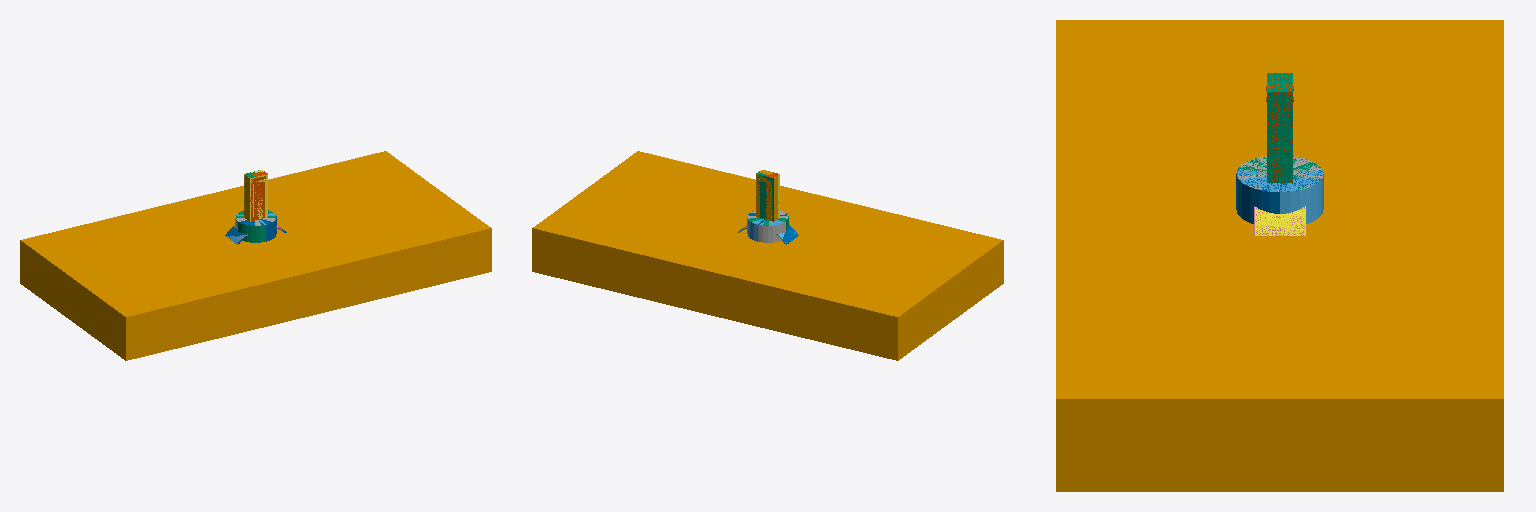
The robot description file, URDF, robot "m4_morphobot":
<?xml version="1.0" encoding="utf-8"?>
<robot name="m4_morphobot">
  <link name="base">
    <inertial>
      <origin xyz="0.000000 0.000000 0.000000" rpy="0 0 0"/>
      <mass value="2.416522"/>
      <inertia ixx="2.595748e-2" iyy="9.996347e-2" izz="1.233433e-1" ixy="0" ixz="0" iyz="0"/>
    </inertial>
    <visual>
      <origin xyz="0 0 0" rpy="0 0 0"/>
      <geometry>
        <mesh filename="package://m4_morphobot/meshes/catalog_chassis_quadruped_body__height-80__hip_spacing_x-500__hip_spacing_y-300__length-700__width-350.stl"/>
      </geometry>
    </visual>
    <collision>
      <origin xyz="0 0 0" rpy="0 0 0"/>
      <geometry>
        <mesh filename="package://m4_morphobot/meshes/catalog_chassis_quadruped_body__height-80__hip_spacing_x-500__hip_spacing_y-300__length-700__width-350.stl"/>
      </geometry>
    </collision>
  </link>
  <link name="FL_roll_housing">
    <inertial>
      <origin xyz="0.000000 0.000000 0.000000" rpy="0 0 0"/>
      <mass value="0.080000"/>
      <inertia ixx="3.333333e-5" iyy="3.333333e-5" izz="3.333333e-5" ixy="0" ixz="0" iyz="0"/>
    </inertial>
    <visual>
      <origin xyz="0 0 0" rpy="0 0 0"/>
      <geometry>
        <mesh filename="package://m4_morphobot/meshes/catalog_joints_joint_t2__gearbox-planetary-9-1__motor-t-motor-r60-kv115.stl"/>
      </geometry>
    </visual>
    <collision>
      <origin xyz="0 0 0" rpy="0 0 0"/>
      <geometry>
        <mesh filename="package://m4_morphobot/meshes/catalog_joints_joint_t2__gearbox-planetary-9-1__motor-t-motor-r60-kv115.stl"/>
      </geometry>
    </collision>
  </link>
  <link name="FL_leg">
    <inertial>
      <origin xyz="0.000000 0.000000 0.000000" rpy="0 0 0"/>
      <mass value="0.150000"/>
      <inertia ixx="5.200000e-4" iyy="5.200000e-4" izz="4.000000e-5" ixy="0" ixz="0" iyz="0"/>
    </inertial>
    <visual>
      <origin xyz="0 0 0" rpy="0 0 0"/>
      <geometry>
        <mesh filename="package://m4_morphobot/meshes/catalog_brackets_leg_segment__length-150.stl"/>
      </geometry>
    </visual>
    <collision>
      <origin xyz="0 0 0" rpy="0 0 0"/>
      <geometry>
        <mesh filename="package://m4_morphobot/meshes/catalog_brackets_leg_segment__length-150.stl"/>
      </geometry>
    </collision>
  </link>
  <link name="FL_rotor">
    <inertial>
      <origin xyz="0.000000 0.000000 0.000000" rpy="0 0 0"/>
      <mass value="0.064238"/>
      <inertia ixx="1.001624e-4" iyy="1.955740e-4" izz="1.001624e-4" ixy="0" ixz="0" iyz="0"/>
    </inertial>
    <visual>
      <origin xyz="0 0 0" rpy="0 0 0"/>
      <geometry>
        <mesh filename="package://m4_morphobot/meshes/catalog_wheels_rotor_wheel__hub_radius-8__hub_thickness-10__prop_blade_length-55__shroud_height-40__shroud_radius-62.5.stl"/>
      </geometry>
    </visual>
    <collision>
      <origin xyz="0 0 0" rpy="0 0 0"/>
      <geometry>
        <mesh filename="package://m4_morphobot/meshes/catalog_wheels_rotor_wheel__hub_radius-8__hub_thickness-10__prop_blade_length-55__shroud_height-40__shroud_radius-62.5.stl"/>
      </geometry>
    </collision>
  </link>
  <link name="FR_roll_housing">
    <inertial>
      <origin xyz="0.000000 0.000000 0.000000" rpy="0 0 0"/>
      <mass value="0.080000"/>
      <inertia ixx="3.333333e-5" iyy="3.333333e-5" izz="3.333333e-5" ixy="0" ixz="0" iyz="0"/>
    </inertial>
    <visual>
      <origin xyz="0 0 0" rpy="0 0 0"/>
      <geometry>
        <mesh filename="package://m4_morphobot/meshes/catalog_joints_joint_t2__gearbox-planetary-9-1__motor-t-motor-r60-kv115.stl"/>
      </geometry>
    </visual>
    <collision>
      <origin xyz="0 0 0" rpy="0 0 0"/>
      <geometry>
        <mesh filename="package://m4_morphobot/meshes/catalog_joints_joint_t2__gearbox-planetary-9-1__motor-t-motor-r60-kv115.stl"/>
      </geometry>
    </collision>
  </link>
  <link name="FR_leg">
    <inertial>
      <origin xyz="0.000000 0.000000 0.000000" rpy="0 0 0"/>
      <mass value="0.150000"/>
      <inertia ixx="5.200000e-4" iyy="5.200000e-4" izz="4.000000e-5" ixy="0" ixz="0" iyz="0"/>
    </inertial>
    <visual>
      <origin xyz="0 0 0" rpy="0 0 0"/>
      <geometry>
        <mesh filename="package://m4_morphobot/meshes/catalog_brackets_leg_segment__length-150.stl"/>
      </geometry>
    </visual>
    <collision>
      <origin xyz="0 0 0" rpy="0 0 0"/>
      <geometry>
        <mesh filename="package://m4_morphobot/meshes/catalog_brackets_leg_segment__length-150.stl"/>
      </geometry>
    </collision>
  </link>
  <link name="FR_rotor">
    <inertial>
      <origin xyz="0.000000 0.000000 0.000000" rpy="0 0 0"/>
      <mass value="0.064238"/>
      <inertia ixx="1.001624e-4" iyy="1.955740e-4" izz="1.001624e-4" ixy="0" ixz="0" iyz="0"/>
    </inertial>
    <visual>
      <origin xyz="0 0 0" rpy="0 0 0"/>
      <geometry>
        <mesh filename="package://m4_morphobot/meshes/catalog_wheels_rotor_wheel__hub_radius-8__hub_thickness-10__prop_blade_length-55__shroud_height-40__shroud_radius-62.5.stl"/>
      </geometry>
    </visual>
    <collision>
      <origin xyz="0 0 0" rpy="0 0 0"/>
      <geometry>
        <mesh filename="package://m4_morphobot/meshes/catalog_wheels_rotor_wheel__hub_radius-8__hub_thickness-10__prop_blade_length-55__shroud_height-40__shroud_radius-62.5.stl"/>
      </geometry>
    </collision>
  </link>
  <link name="RL_roll_housing">
    <inertial>
      <origin xyz="0.000000 0.000000 0.000000" rpy="0 0 0"/>
      <mass value="0.080000"/>
      <inertia ixx="3.333333e-5" iyy="3.333333e-5" izz="3.333333e-5" ixy="0" ixz="0" iyz="0"/>
    </inertial>
    <visual>
      <origin xyz="0 0 0" rpy="0 0 0"/>
      <geometry>
        <mesh filename="package://m4_morphobot/meshes/catalog_joints_joint_t2__gearbox-planetary-9-1__motor-t-motor-r60-kv115.stl"/>
      </geometry>
    </visual>
    <collision>
      <origin xyz="0 0 0" rpy="0 0 0"/>
      <geometry>
        <mesh filename="package://m4_morphobot/meshes/catalog_joints_joint_t2__gearbox-planetary-9-1__motor-t-motor-r60-kv115.stl"/>
      </geometry>
    </collision>
  </link>
  <link name="RL_leg">
    <inertial>
      <origin xyz="0.000000 0.000000 0.000000" rpy="0 0 0"/>
      <mass value="0.150000"/>
      <inertia ixx="5.200000e-4" iyy="5.200000e-4" izz="4.000000e-5" ixy="0" ixz="0" iyz="0"/>
    </inertial>
    <visual>
      <origin xyz="0 0 0" rpy="0 0 0"/>
      <geometry>
        <mesh filename="package://m4_morphobot/meshes/catalog_brackets_leg_segment__length-150.stl"/>
      </geometry>
    </visual>
    <collision>
      <origin xyz="0 0 0" rpy="0 0 0"/>
      <geometry>
        <mesh filename="package://m4_morphobot/meshes/catalog_brackets_leg_segment__length-150.stl"/>
      </geometry>
    </collision>
  </link>
  <link name="RL_rotor">
    <inertial>
      <origin xyz="0.000000 0.000000 0.000000" rpy="0 0 0"/>
      <mass value="0.064238"/>
      <inertia ixx="1.001624e-4" iyy="1.955740e-4" izz="1.001624e-4" ixy="0" ixz="0" iyz="0"/>
    </inertial>
    <visual>
      <origin xyz="0 0 0" rpy="0 0 0"/>
      <geometry>
        <mesh filename="package://m4_morphobot/meshes/catalog_wheels_rotor_wheel__hub_radius-8__hub_thickness-10__prop_blade_length-55__shroud_height-40__shroud_radius-62.5.stl"/>
      </geometry>
    </visual>
    <collision>
      <origin xyz="0 0 0" rpy="0 0 0"/>
      <geometry>
        <mesh filename="package://m4_morphobot/meshes/catalog_wheels_rotor_wheel__hub_radius-8__hub_thickness-10__prop_blade_length-55__shroud_height-40__shroud_radius-62.5.stl"/>
      </geometry>
    </collision>
  </link>
  <link name="RR_roll_housing">
    <inertial>
      <origin xyz="0.000000 0.000000 0.000000" rpy="0 0 0"/>
      <mass value="0.080000"/>
      <inertia ixx="3.333333e-5" iyy="3.333333e-5" izz="3.333333e-5" ixy="0" ixz="0" iyz="0"/>
    </inertial>
    <visual>
      <origin xyz="0 0 0" rpy="0 0 0"/>
      <geometry>
        <mesh filename="package://m4_morphobot/meshes/catalog_joints_joint_t2__gearbox-planetary-9-1__motor-t-motor-r60-kv115.stl"/>
      </geometry>
    </visual>
    <collision>
      <origin xyz="0 0 0" rpy="0 0 0"/>
      <geometry>
        <mesh filename="package://m4_morphobot/meshes/catalog_joints_joint_t2__gearbox-planetary-9-1__motor-t-motor-r60-kv115.stl"/>
      </geometry>
    </collision>
  </link>
  <link name="RR_leg">
    <inertial>
      <origin xyz="0.000000 0.000000 0.000000" rpy="0 0 0"/>
      <mass value="0.150000"/>
      <inertia ixx="5.200000e-4" iyy="5.200000e-4" izz="4.000000e-5" ixy="0" ixz="0" iyz="0"/>
    </inertial>
    <visual>
      <origin xyz="0 0 0" rpy="0 0 0"/>
      <geometry>
        <mesh filename="package://m4_morphobot/meshes/catalog_brackets_leg_segment__length-150.stl"/>
      </geometry>
    </visual>
    <collision>
      <origin xyz="0 0 0" rpy="0 0 0"/>
      <geometry>
        <mesh filename="package://m4_morphobot/meshes/catalog_brackets_leg_segment__length-150.stl"/>
      </geometry>
    </collision>
  </link>
  <link name="RR_rotor">
    <inertial>
      <origin xyz="0.000000 0.000000 0.000000" rpy="0 0 0"/>
      <mass value="0.064238"/>
      <inertia ixx="1.001624e-4" iyy="1.955740e-4" izz="1.001624e-4" ixy="0" ixz="0" iyz="0"/>
    </inertial>
    <visual>
      <origin xyz="0 0 0" rpy="0 0 0"/>
      <geometry>
        <mesh filename="package://m4_morphobot/meshes/catalog_wheels_rotor_wheel__hub_radius-8__hub_thickness-10__prop_blade_length-55__shroud_height-40__shroud_radius-62.5.stl"/>
      </geometry>
    </visual>
    <collision>
      <origin xyz="0 0 0" rpy="0 0 0"/>
      <geometry>
        <mesh filename="package://m4_morphobot/meshes/catalog_wheels_rotor_wheel__hub_radius-8__hub_thickness-10__prop_blade_length-55__shroud_height-40__shroud_radius-62.5.stl"/>
      </geometry>
    </collision>
  </link>
  <joint name="FL_HIP_roll" type="revolute">
    <parent link="base"/>
    <child link="FL_roll_housing"/>
    <origin xyz="0.250000 0.150000 -0.040000" rpy="0.000000 0.000000 0.000000"/>
    <axis xyz="1.000000 0.000000 0.000000"/>
    <limit lower="-1.600" upper="1.600" effort="18.000" velocity="15.000"/>
  </joint>
  <transmission name="FL_HIP_roll_trans">
    <type>transmission_interface/SimpleTransmission</type>
    <joint name="FL_HIP_roll">
      <hardwareInterface>hardware_interface/EffortJointInterface</hardwareInterface>
    </joint>
    <actuator name="FL_HIP_roll_motor">
      <hardwareInterface>hardware_interface/EffortJointInterface</hardwareInterface>
      <mechanicalReduction>1</mechanicalReduction>
    </actuator>
  </transmission>
  <joint name="FL_HIP_pitch" type="revolute">
    <parent link="FL_roll_housing"/>
    <child link="FL_leg"/>
    <origin xyz="0.000000 0.000000 -0.050000" rpy="0.000000 0.000000 0.000000"/>
    <axis xyz="0.000000 1.000000 0.000000"/>
    <limit lower="-1.600" upper="1.600" effort="18.000" velocity="15.000"/>
  </joint>
  <transmission name="FL_HIP_pitch_trans">
    <type>transmission_interface/SimpleTransmission</type>
    <joint name="FL_HIP_pitch">
      <hardwareInterface>hardware_interface/EffortJointInterface</hardwareInterface>
    </joint>
    <actuator name="FL_HIP_pitch_motor">
      <hardwareInterface>hardware_interface/EffortJointInterface</hardwareInterface>
      <mechanicalReduction>1</mechanicalReduction>
    </actuator>
  </transmission>
  <joint name="FL_ROTOR_drive" type="continuous">
    <parent link="FL_leg"/>
    <child link="FL_rotor"/>
    <origin xyz="0.000000 0.000000 -0.150000" rpy="0.000000 0.000000 0.000000"/>
    <axis xyz="0.000000 1.000000 0.000000"/>
    <limit effort="2.000" velocity="600.000"/>
  </joint>
  <transmission name="FL_ROTOR_drive_trans">
    <type>transmission_interface/SimpleTransmission</type>
    <joint name="FL_ROTOR_drive">
      <hardwareInterface>hardware_interface/EffortJointInterface</hardwareInterface>
    </joint>
    <actuator name="FL_ROTOR_drive_motor">
      <hardwareInterface>hardware_interface/EffortJointInterface</hardwareInterface>
      <mechanicalReduction>1</mechanicalReduction>
    </actuator>
  </transmission>
  <joint name="FR_HIP_roll" type="revolute">
    <parent link="base"/>
    <child link="FR_roll_housing"/>
    <origin xyz="0.250000 -0.150000 -0.040000" rpy="0.000000 0.000000 0.000000"/>
    <axis xyz="1.000000 0.000000 0.000000"/>
    <limit lower="-1.600" upper="1.600" effort="18.000" velocity="15.000"/>
  </joint>
  <transmission name="FR_HIP_roll_trans">
    <type>transmission_interface/SimpleTransmission</type>
    <joint name="FR_HIP_roll">
      <hardwareInterface>hardware_interface/EffortJointInterface</hardwareInterface>
    </joint>
    <actuator name="FR_HIP_roll_motor">
      <hardwareInterface>hardware_interface/EffortJointInterface</hardwareInterface>
      <mechanicalReduction>1</mechanicalReduction>
    </actuator>
  </transmission>
  <joint name="FR_HIP_pitch" type="revolute">
    <parent link="FR_roll_housing"/>
    <child link="FR_leg"/>
    <origin xyz="0.000000 0.000000 -0.050000" rpy="0.000000 0.000000 0.000000"/>
    <axis xyz="0.000000 1.000000 0.000000"/>
    <limit lower="-1.600" upper="1.600" effort="18.000" velocity="15.000"/>
  </joint>
  <transmission name="FR_HIP_pitch_trans">
    <type>transmission_interface/SimpleTransmission</type>
    <joint name="FR_HIP_pitch">
      <hardwareInterface>hardware_interface/EffortJointInterface</hardwareInterface>
    </joint>
    <actuator name="FR_HIP_pitch_motor">
      <hardwareInterface>hardware_interface/EffortJointInterface</hardwareInterface>
      <mechanicalReduction>1</mechanicalReduction>
    </actuator>
  </transmission>
  <joint name="FR_ROTOR_drive" type="continuous">
    <parent link="FR_leg"/>
    <child link="FR_rotor"/>
    <origin xyz="0.000000 0.000000 -0.150000" rpy="0.000000 0.000000 0.000000"/>
    <axis xyz="0.000000 1.000000 0.000000"/>
    <limit effort="2.000" velocity="600.000"/>
  </joint>
  <transmission name="FR_ROTOR_drive_trans">
    <type>transmission_interface/SimpleTransmission</type>
    <joint name="FR_ROTOR_drive">
      <hardwareInterface>hardware_interface/EffortJointInterface</hardwareInterface>
    </joint>
    <actuator name="FR_ROTOR_drive_motor">
      <hardwareInterface>hardware_interface/EffortJointInterface</hardwareInterface>
      <mechanicalReduction>1</mechanicalReduction>
    </actuator>
  </transmission>
  <joint name="RL_HIP_roll" type="revolute">
    <parent link="base"/>
    <child link="RL_roll_housing"/>
    <origin xyz="-0.250000 0.150000 -0.040000" rpy="0.000000 0.000000 0.000000"/>
    <axis xyz="1.000000 0.000000 0.000000"/>
    <limit lower="-1.600" upper="1.600" effort="18.000" velocity="15.000"/>
  </joint>
  <transmission name="RL_HIP_roll_trans">
    <type>transmission_interface/SimpleTransmission</type>
    <joint name="RL_HIP_roll">
      <hardwareInterface>hardware_interface/EffortJointInterface</hardwareInterface>
    </joint>
    <actuator name="RL_HIP_roll_motor">
      <hardwareInterface>hardware_interface/EffortJointInterface</hardwareInterface>
      <mechanicalReduction>1</mechanicalReduction>
    </actuator>
  </transmission>
  <joint name="RL_HIP_pitch" type="revolute">
    <parent link="RL_roll_housing"/>
    <child link="RL_leg"/>
    <origin xyz="0.000000 0.000000 -0.050000" rpy="0.000000 0.000000 0.000000"/>
    <axis xyz="0.000000 1.000000 0.000000"/>
    <limit lower="-1.600" upper="1.600" effort="18.000" velocity="15.000"/>
  </joint>
  <transmission name="RL_HIP_pitch_trans">
    <type>transmission_interface/SimpleTransmission</type>
    <joint name="RL_HIP_pitch">
      <hardwareInterface>hardware_interface/EffortJointInterface</hardwareInterface>
    </joint>
    <actuator name="RL_HIP_pitch_motor">
      <hardwareInterface>hardware_interface/EffortJointInterface</hardwareInterface>
      <mechanicalReduction>1</mechanicalReduction>
    </actuator>
  </transmission>
  <joint name="RL_ROTOR_drive" type="continuous">
    <parent link="RL_leg"/>
    <child link="RL_rotor"/>
    <origin xyz="0.000000 0.000000 -0.150000" rpy="0.000000 0.000000 0.000000"/>
    <axis xyz="0.000000 1.000000 0.000000"/>
    <limit effort="2.000" velocity="600.000"/>
  </joint>
  <transmission name="RL_ROTOR_drive_trans">
    <type>transmission_interface/SimpleTransmission</type>
    <joint name="RL_ROTOR_drive">
      <hardwareInterface>hardware_interface/EffortJointInterface</hardwareInterface>
    </joint>
    <actuator name="RL_ROTOR_drive_motor">
      <hardwareInterface>hardware_interface/EffortJointInterface</hardwareInterface>
      <mechanicalReduction>1</mechanicalReduction>
    </actuator>
  </transmission>
  <joint name="RR_HIP_roll" type="revolute">
    <parent link="base"/>
    <child link="RR_roll_housing"/>
    <origin xyz="-0.250000 -0.150000 -0.040000" rpy="0.000000 0.000000 0.000000"/>
    <axis xyz="1.000000 0.000000 0.000000"/>
    <limit lower="-1.600" upper="1.600" effort="18.000" velocity="15.000"/>
  </joint>
  <transmission name="RR_HIP_roll_trans">
    <type>transmission_interface/SimpleTransmission</type>
    <joint name="RR_HIP_roll">
      <hardwareInterface>hardware_interface/EffortJointInterface</hardwareInterface>
    </joint>
    <actuator name="RR_HIP_roll_motor">
      <hardwareInterface>hardware_interface/EffortJointInterface</hardwareInterface>
      <mechanicalReduction>1</mechanicalReduction>
    </actuator>
  </transmission>
  <joint name="RR_HIP_pitch" type="revolute">
    <parent link="RR_roll_housing"/>
    <child link="RR_leg"/>
    <origin xyz="0.000000 0.000000 -0.050000" rpy="0.000000 0.000000 0.000000"/>
    <axis xyz="0.000000 1.000000 0.000000"/>
    <limit lower="-1.600" upper="1.600" effort="18.000" velocity="15.000"/>
  </joint>
  <transmission name="RR_HIP_pitch_trans">
    <type>transmission_interface/SimpleTransmission</type>
    <joint name="RR_HIP_pitch">
      <hardwareInterface>hardware_interface/EffortJointInterface</hardwareInterface>
    </joint>
    <actuator name="RR_HIP_pitch_motor">
      <hardwareInterface>hardware_interface/EffortJointInterface</hardwareInterface>
      <mechanicalReduction>1</mechanicalReduction>
    </actuator>
  </transmission>
  <joint name="RR_ROTOR_drive" type="continuous">
    <parent link="RR_leg"/>
    <child link="RR_rotor"/>
    <origin xyz="0.000000 0.000000 -0.150000" rpy="0.000000 0.000000 0.000000"/>
    <axis xyz="0.000000 1.000000 0.000000"/>
    <limit effort="2.000" velocity="600.000"/>
  </joint>
  <transmission name="RR_ROTOR_drive_trans">
    <type>transmission_interface/SimpleTransmission</type>
    <joint name="RR_ROTOR_drive">
      <hardwareInterface>hardware_interface/EffortJointInterface</hardwareInterface>
    </joint>
    <actuator name="RR_ROTOR_drive_motor">
      <hardwareInterface>hardware_interface/EffortJointInterface</hardwareInterface>
      <mechanicalReduction>1</mechanicalReduction>
    </actuator>
  </transmission>
</robot>

--- Facts derived from the render (not from the file) ---
Views: 3 orthographic renders of the robot side by side, from view 1: azimuth 30°, elevation 25°; view 2: azimuth 150°, elevation 25°; view 3: azimuth 270°, elevation 25°.
Robot: m4_morphobot — 13 links, 12 joints (8 revolute, 4 continuous); root link base; default pose: every joint at zero.
Visible links, largest first — view 1: base, FR_leg; view 2: base, RL_leg; view 3: base, FL_leg, FL_roll_housing, FR_roll_housing, FL_rotor, FR_leg, RL_roll_housing.
Boxes of the visible links, bbox=[...] form: base: bbox=[20, 151, 491, 360]; FR_leg: bbox=[250, 171, 267, 220]; base: bbox=[532, 151, 1003, 360]; RL_leg: bbox=[756, 170, 778, 221]; base: bbox=[1056, 20, 1503, 491]; FL_leg: bbox=[1267, 73, 1293, 182]; FL_roll_housing: bbox=[1237, 170, 1323, 223]; FR_roll_housing: bbox=[1236, 170, 1322, 223]; FL_rotor: bbox=[1255, 206, 1305, 235]; FR_leg: bbox=[1266, 73, 1292, 182]; RL_roll_housing: bbox=[1238, 156, 1322, 191].
Size in the robot's own frame: 700 by 350 by 213 metres.
13 mesh visuals loaded from 4 distinct referenced files (4 binary STL).
